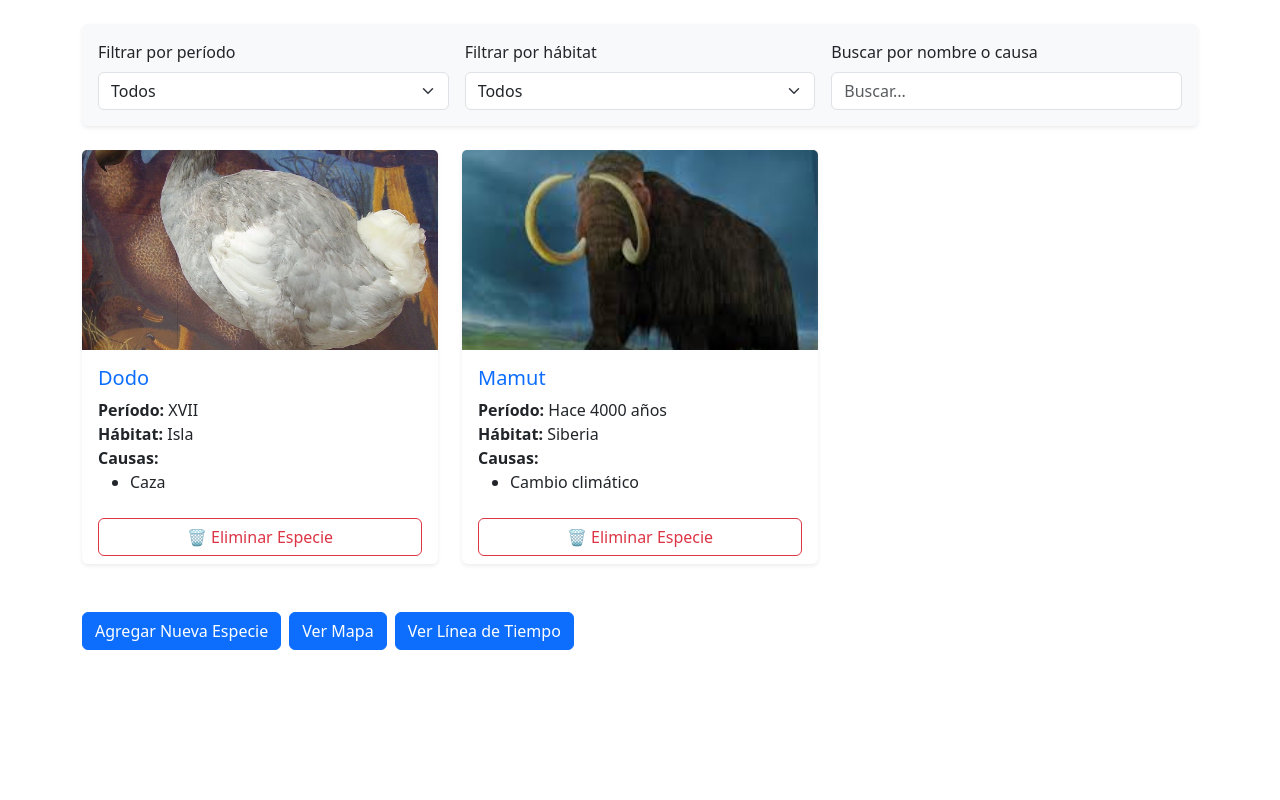
Test case: ListaEspecies › busca por nombre o causa
In the field with placeholder "Buscar...": (1007, 91) 831,72 -> 1182,110, type "climático"
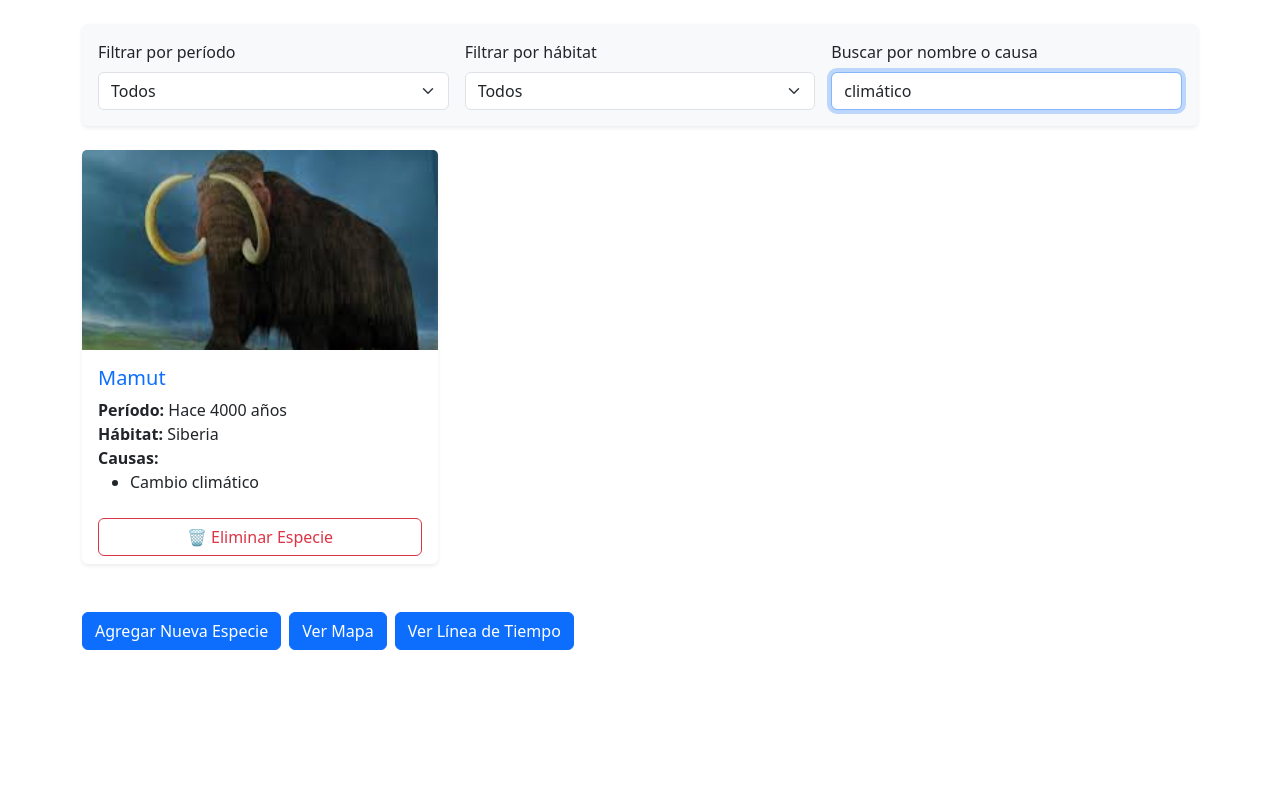
Expected: the text "Mamut" is shown, 98,364 -> 166,391
Expected: the text "Dodo" is gone
